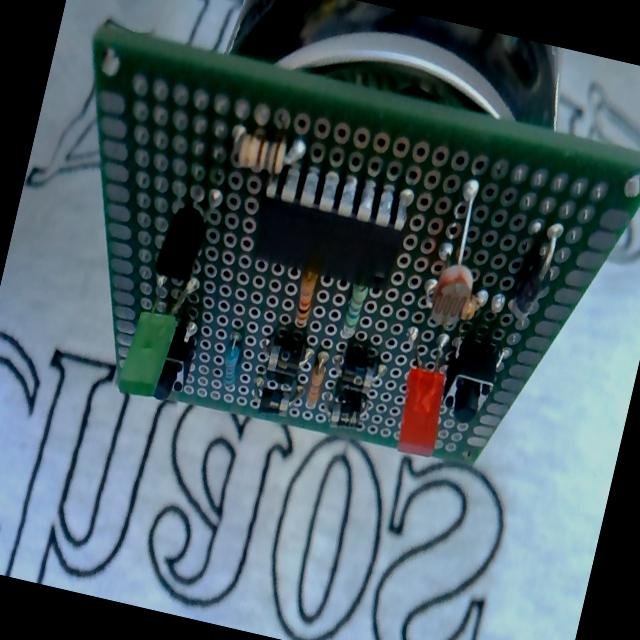IC: (242, 157, 412, 294)
cds: (426, 175, 500, 333)
diode: (505, 215, 564, 328), (324, 385, 368, 433), (336, 348, 380, 393), (264, 336, 306, 380), (256, 384, 292, 419)
led: (116, 266, 190, 402), (388, 329, 458, 457)
resistor: (228, 124, 292, 179), (290, 269, 319, 330), (339, 281, 368, 339), (218, 332, 245, 388), (304, 354, 328, 410)
switch: (434, 335, 502, 428), (152, 323, 200, 406)
transistor: (154, 180, 216, 290)
